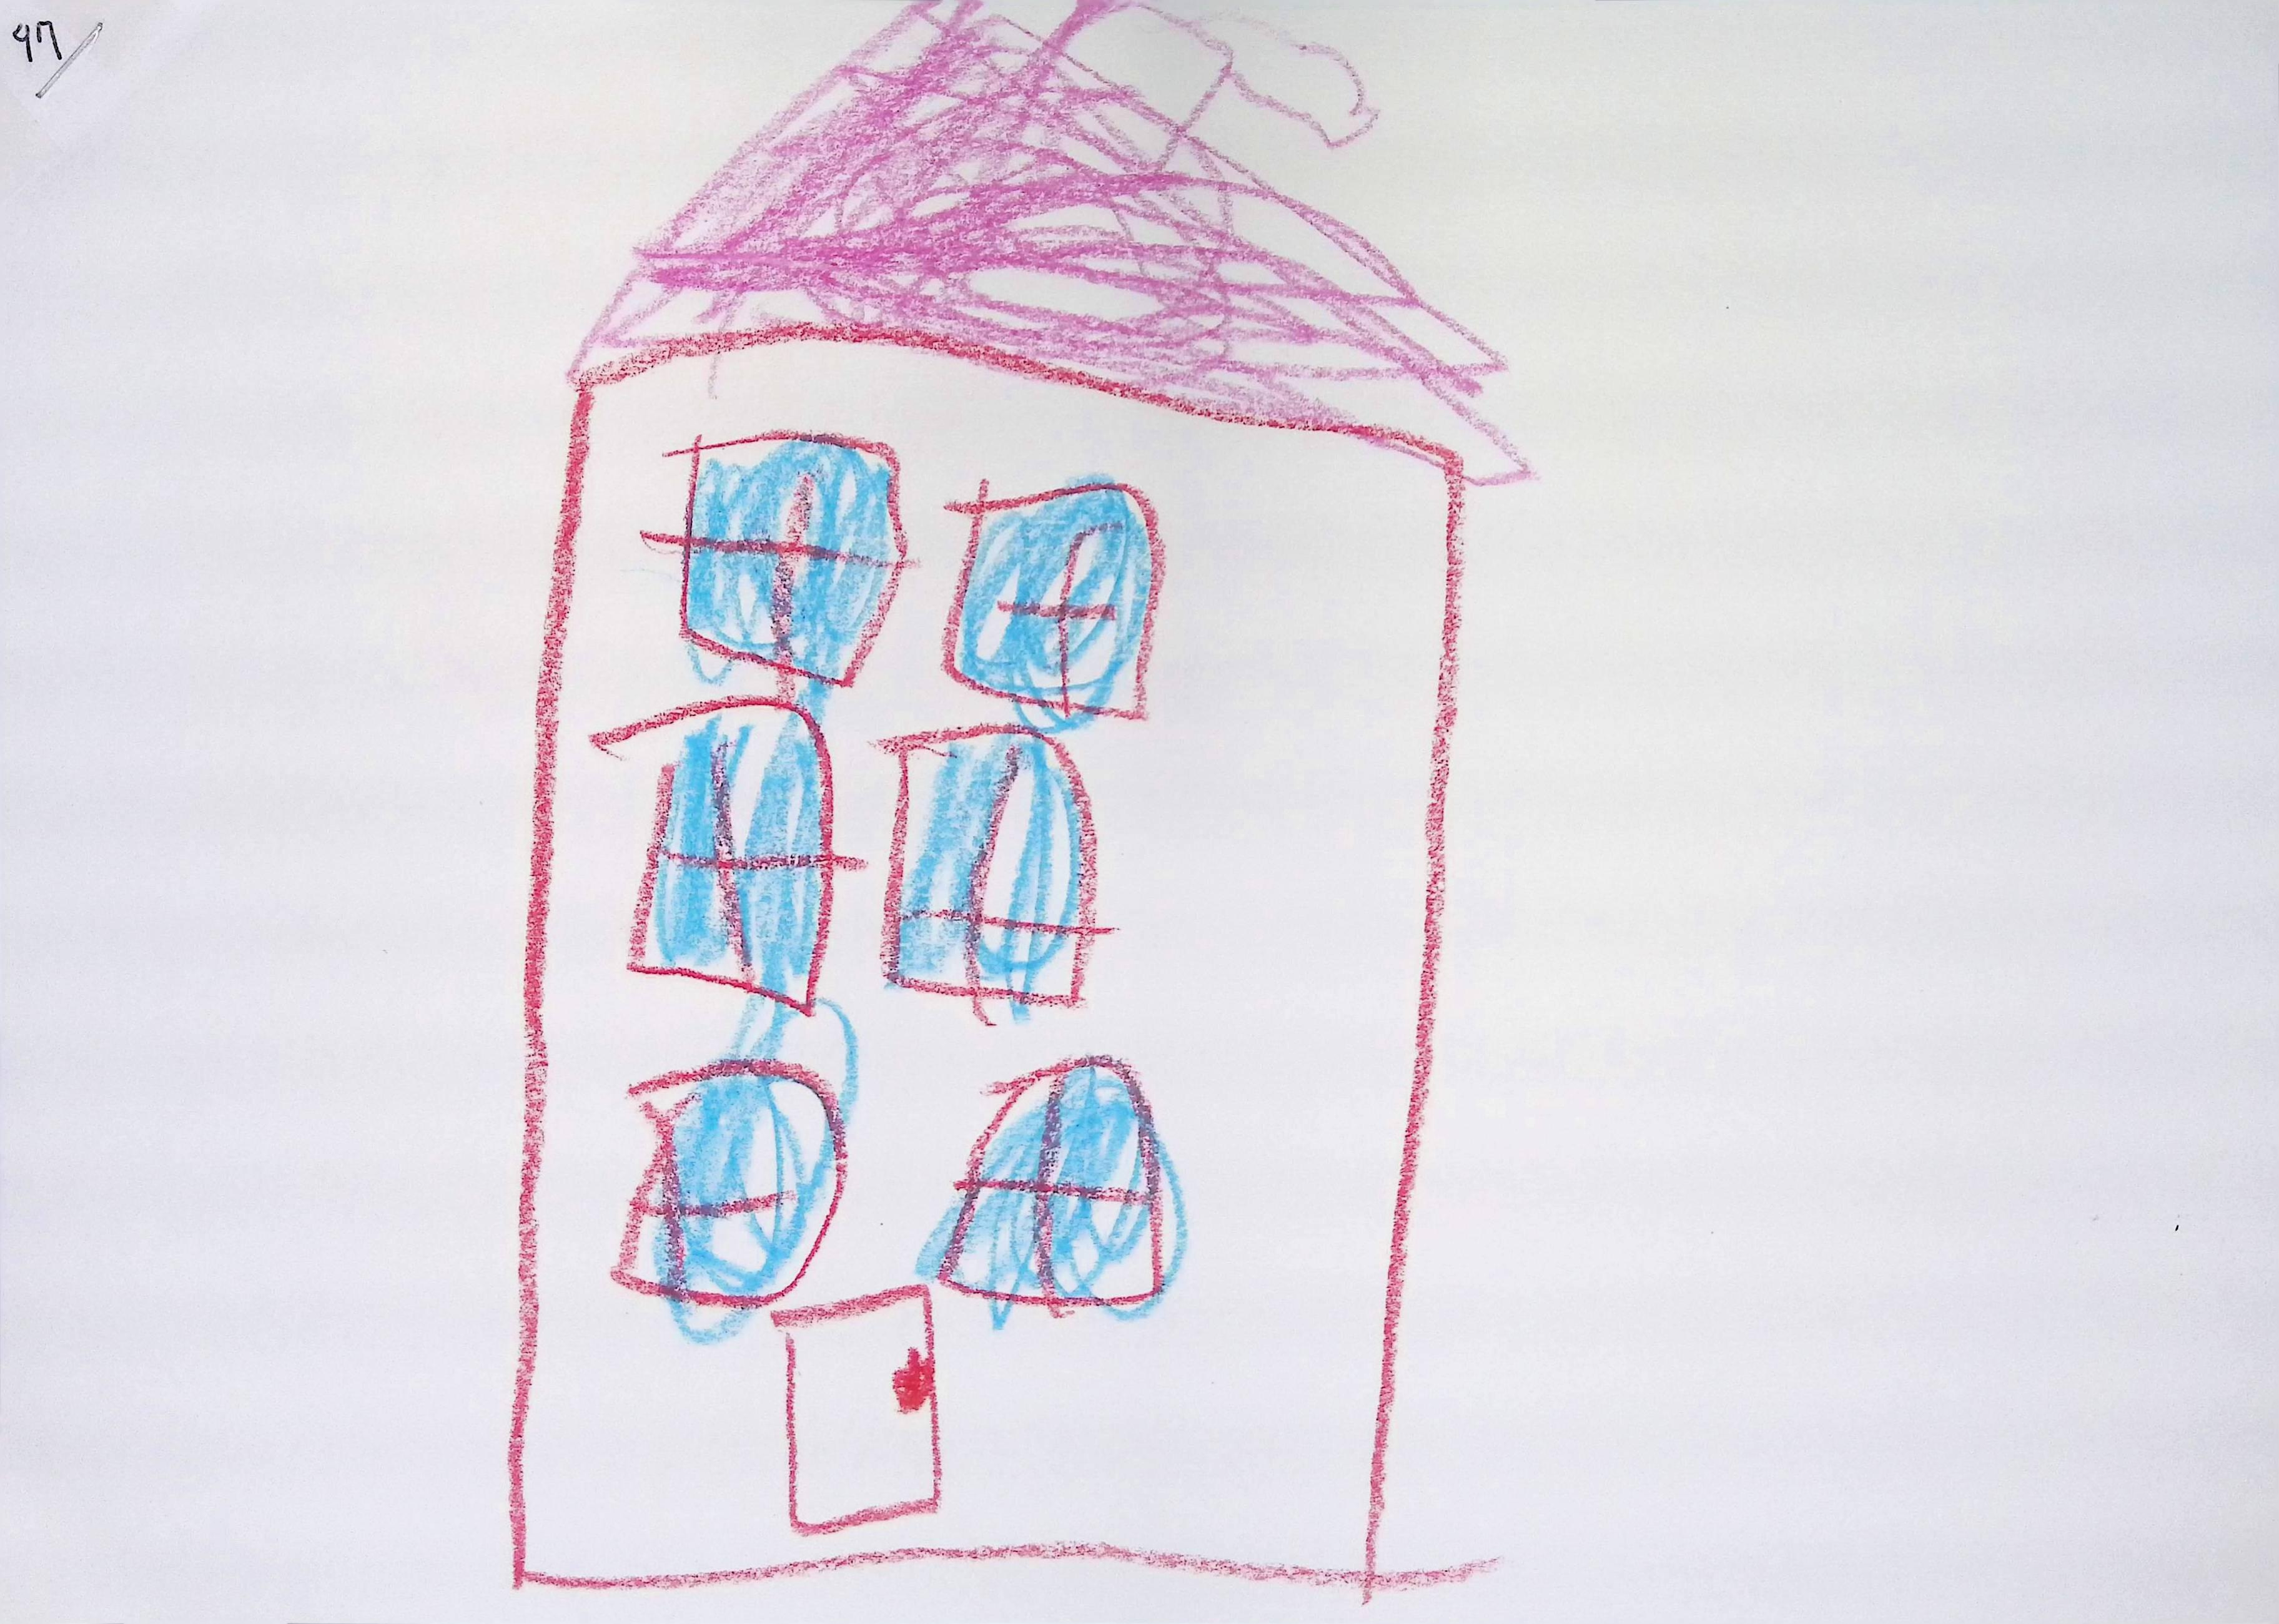chimney: (1030, 0, 1248, 139)
door: (773, 1287, 940, 1536)
house: (515, 2, 1529, 1587)
roof: (564, 0, 1560, 492)
wall: (503, 329, 1460, 1596)
window: (627, 698, 840, 1014), (919, 1056, 1174, 1316), (882, 726, 1109, 1011), (676, 429, 907, 692), (610, 1060, 845, 1309), (945, 475, 1163, 715)
